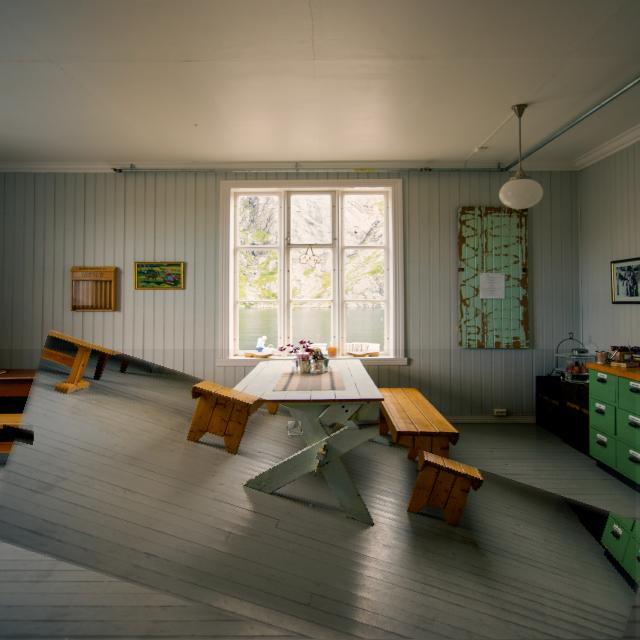floor: (0, 349, 636, 640), (0, 425, 33, 445), (289, 422, 301, 435)
